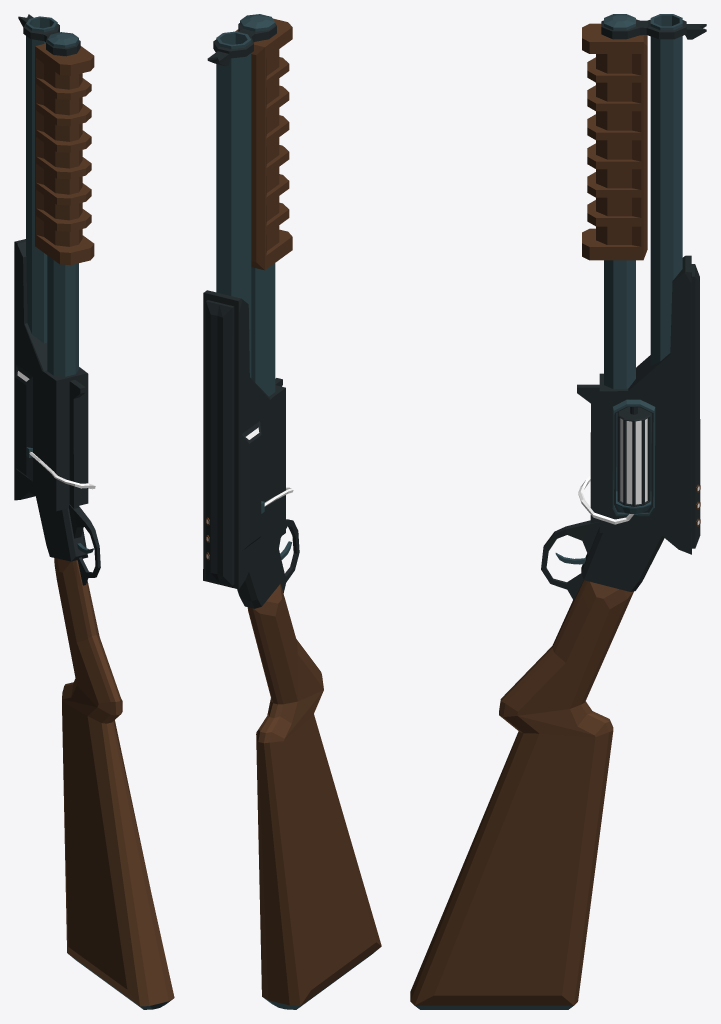
Rendered from Shotgun_V01.fbx.
The picture shows the model from 3 angles, left to right: view 1: azimuth 30°, elevation 25°; view 2: azimuth 150°, elevation 25°; view 3: azimuth 270°, elevation 25°; orthographic projection. The views are drawn at different scales.
Parts seen in each view (by area): view 1: Shotgun_V01; view 2: Shotgun_V01; view 3: Shotgun_V01, Shot_battery.
Part boxes in pixels (x1,y1,x2,y2): Shotgun_V01: [14, 14, 174, 1009]; Shotgun_V01: [203, 14, 381, 1009]; Shotgun_V01: [410, 14, 706, 1009]; Shot_battery: [617, 407, 650, 506].
Size of the model in its own units: 18.09 by 332 by 90.45.
